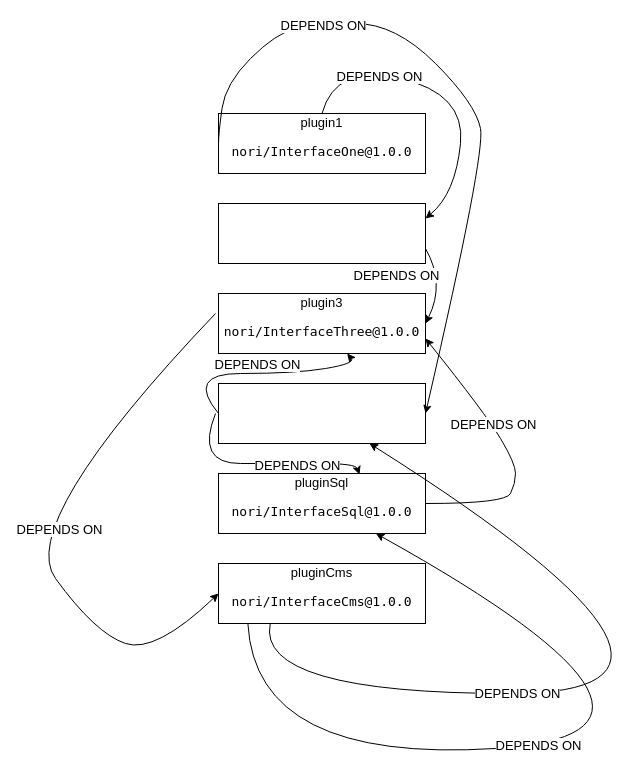
This 630x771 diagram has some shape labels left out. Here are the shapes that lost their labels. From the top down, the box of each, then its label:
(218, 202, 426, 264): plugin2 nori/InterfaceTwo@1.0.0
(218, 382, 426, 444): pluginHttp nori/InterfaceHttp@1.0.0
